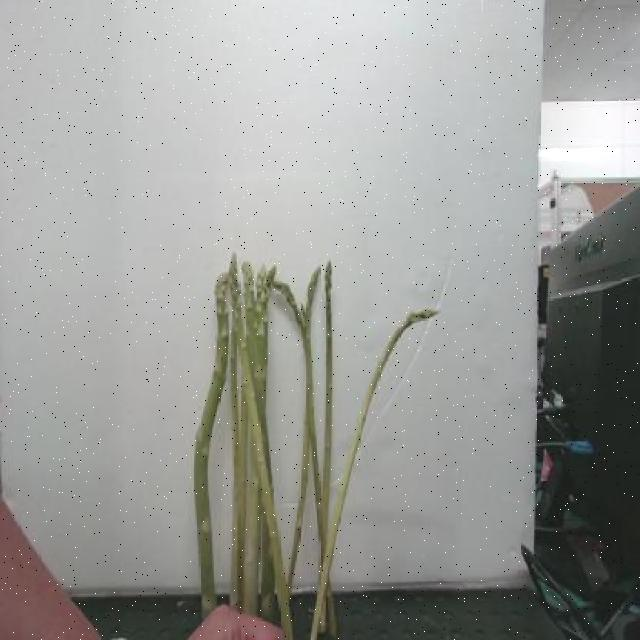aspargus: (309, 310, 437, 640), (194, 259, 243, 613)
